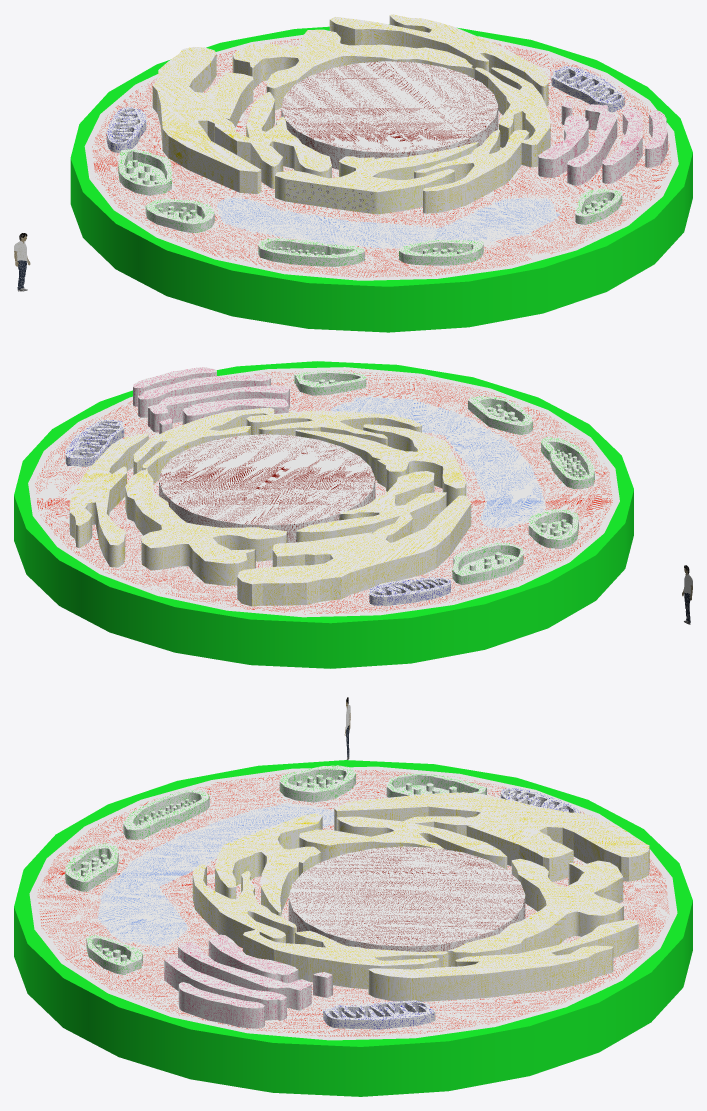
Rendered from cell.dae.
3 renders of one model, top to bottom at view 1: azimuth 30°, elevation 25°; view 2: azimuth 150°, elevation 25°; view 3: azimuth 270°, elevation 25°, orthographic. The views are drawn at different scales.
Visible parts, largest first — view 1: SketchUp (×26); view 2: SketchUp (×25); view 3: SketchUp (×24).
Part boxes in pixels (x1=…): SketchUp (×26): x1=70, y1=14, x2=692, y2=332; SketchUp (×25): x1=14, y1=361, x2=633, y2=668; SketchUp (×24): x1=14, y1=760, x2=692, y2=1096.
Bounding box in the file's own units: 793 × 669 × 80.8.
